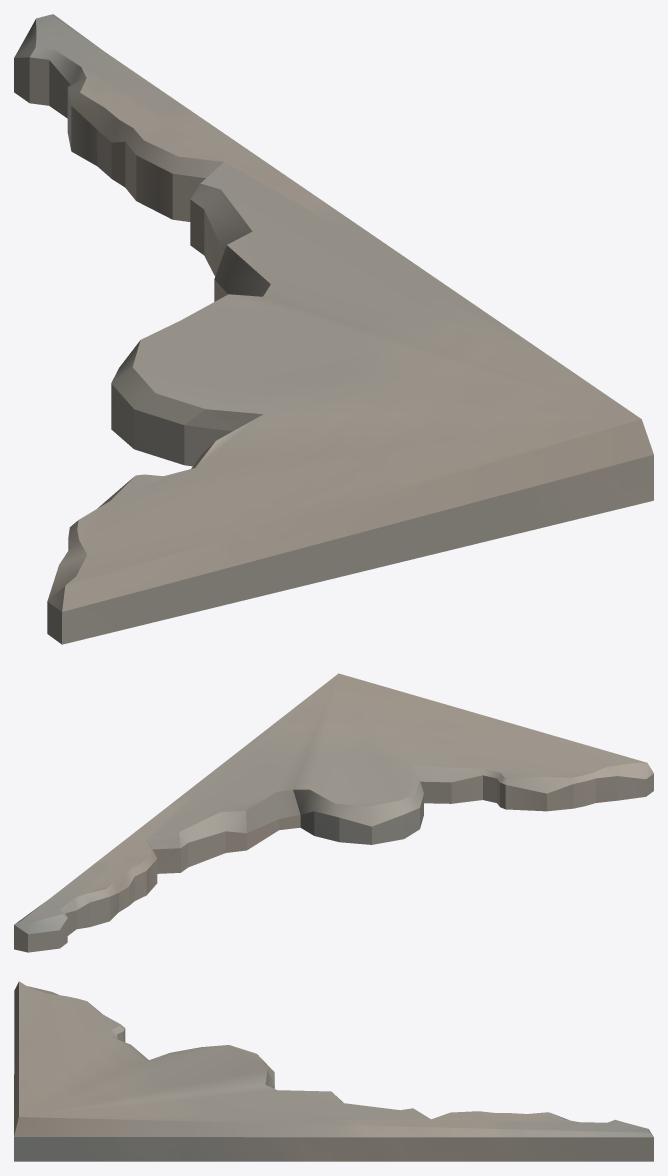
The model's file is rock2.fbx.
3 views of the same model, one above another, from view 1: azimuth 30°, elevation 25°; view 2: azimuth 150°, elevation 25°; view 3: azimuth 270°, elevation 25° (orthographic). The views are drawn at different scales.
Visible parts, largest first — view 1: Rock2; view 2: Rock2; view 3: Rock2.
Boxes of the visible parts, box(x1,y1,x2,y2) form: Rock2: box(14, 14, 653, 644); Rock2: box(14, 673, 653, 952); Rock2: box(14, 981, 653, 1161).
Size of the model in its own units: 4652 by 8178 by 600.
1 material, 1 textured.
